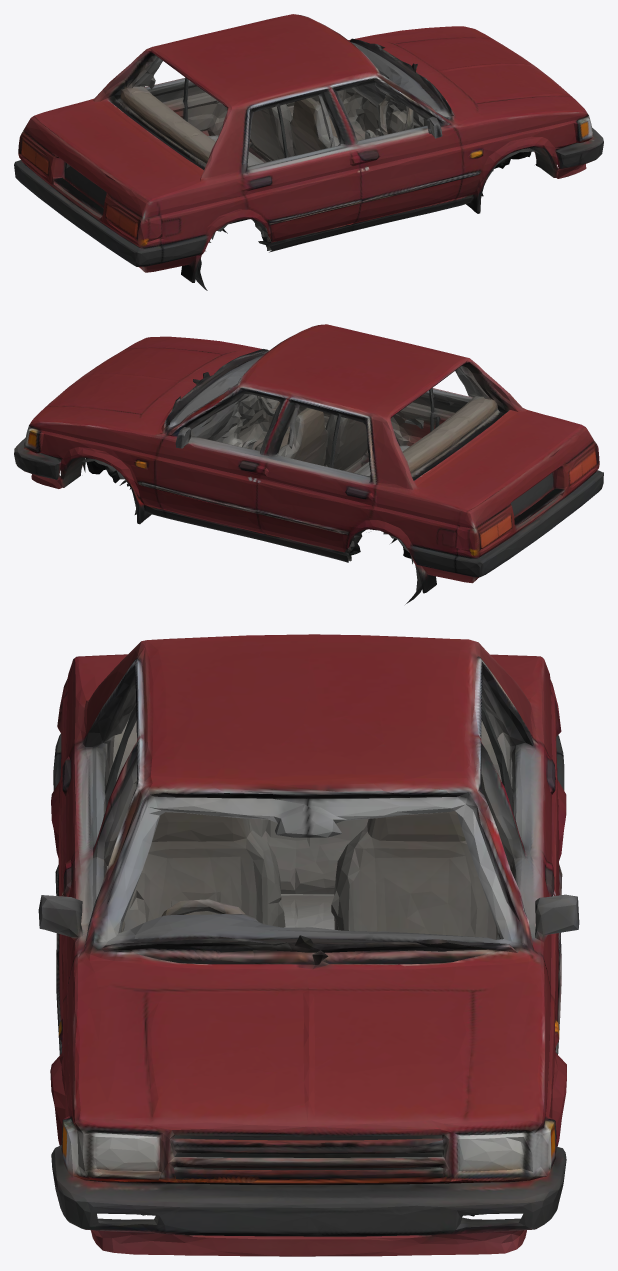
File: body.glb
3 views of the same model, one above another, from view 1: azimuth 30°, elevation 25°; view 2: azimuth 150°, elevation 25°; view 3: azimuth 270°, elevation 25° (orthographic). The views are drawn at different scales.
Visible parts, largest first — view 1: tripo_node_046762e3-0505-4d30-bef7-782a501ac24a; view 2: tripo_node_046762e3-0505-4d30-bef7-782a501ac24a; view 3: tripo_node_046762e3-0505-4d30-bef7-782a501ac24a.
Boxes of the visible parts, bbox=[...] form: tripo_node_046762e3-0505-4d30-bef7-782a501ac24a: bbox=[14, 14, 603, 290]; tripo_node_046762e3-0505-4d30-bef7-782a501ac24a: bbox=[14, 324, 603, 604]; tripo_node_046762e3-0505-4d30-bef7-782a501ac24a: bbox=[38, 634, 579, 1256].
Bounding box in the file's own units: 4.2 × 1.45 × 2.04.
1 material, 1 textured.
